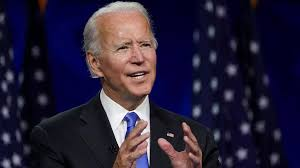No-Glasses: (107, 42, 163, 58)
